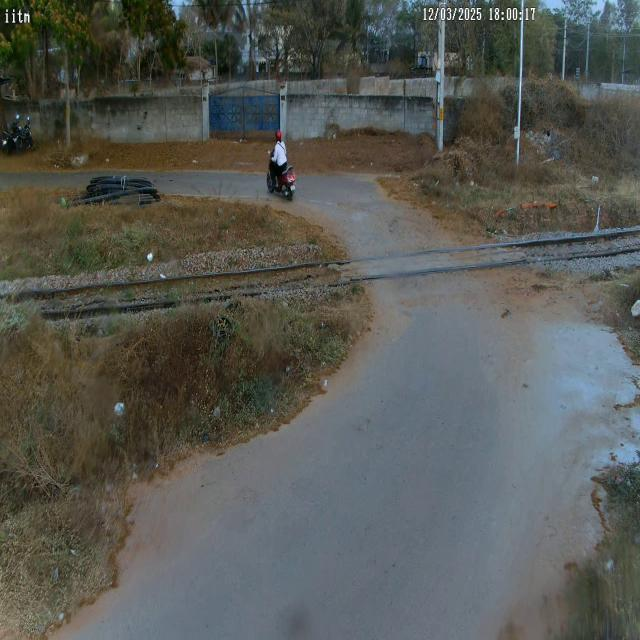objects: (259, 131, 300, 200)
